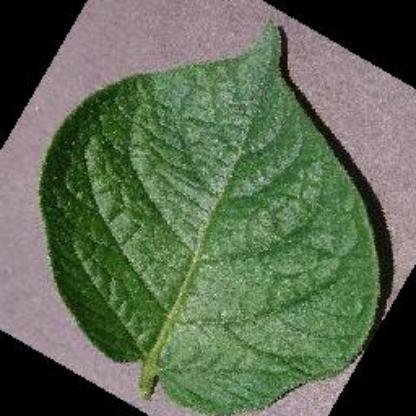Healthy-plant: (30, 16, 386, 410)
